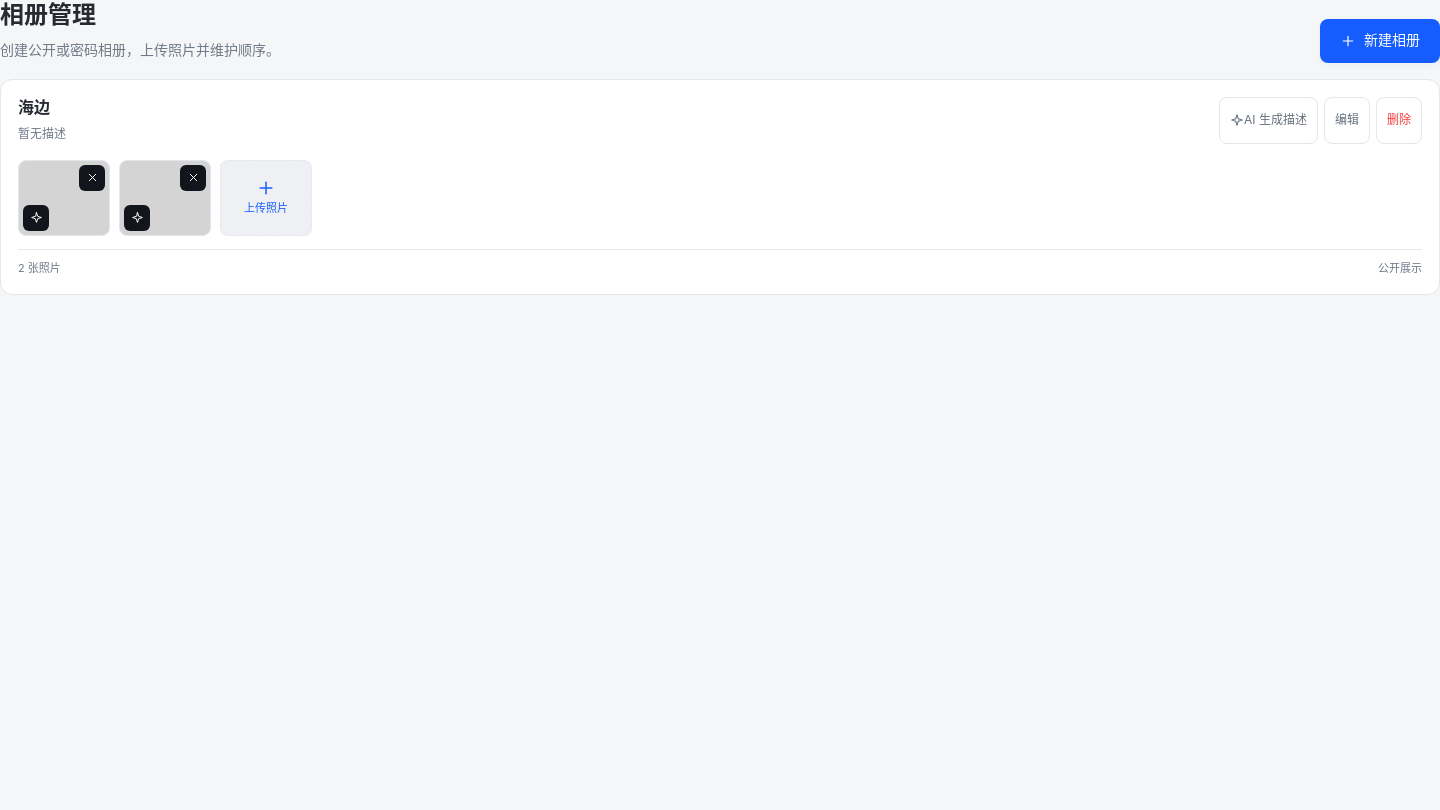
Test: album AI image descriptions › generates a caption for one photo and applies it only when the author confirms
Click the button named "AI 生成描述 7": (36, 218) [23,204,49,230]
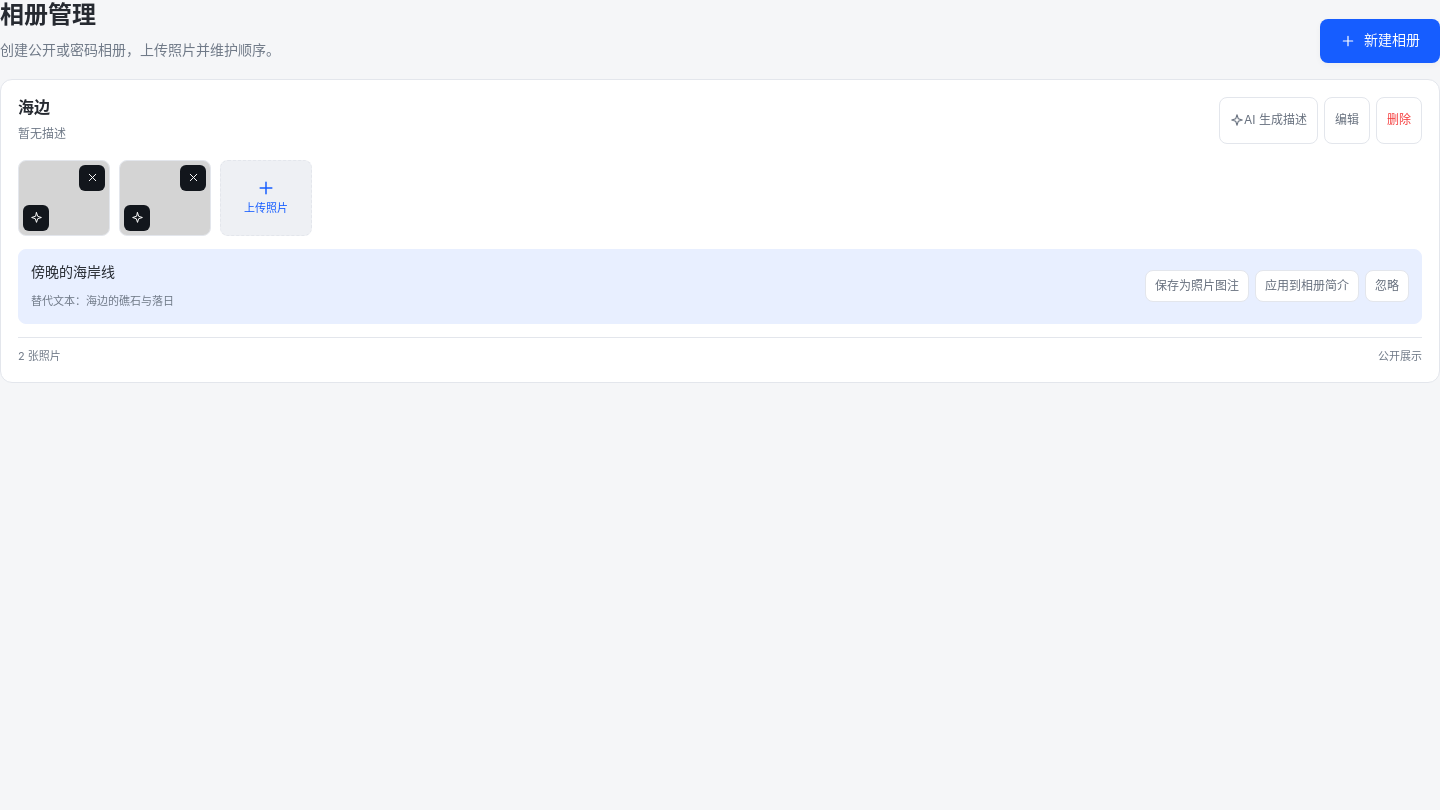
Expected: the text "傍晚的海岸线" is shown, [31,262,115,280]
Expected: the text "替代文本：海边的礁石与落日" is shown, [31,294,174,308]
Click the button "应用到相册简介": (1307, 286) [1255,270,1359,302]
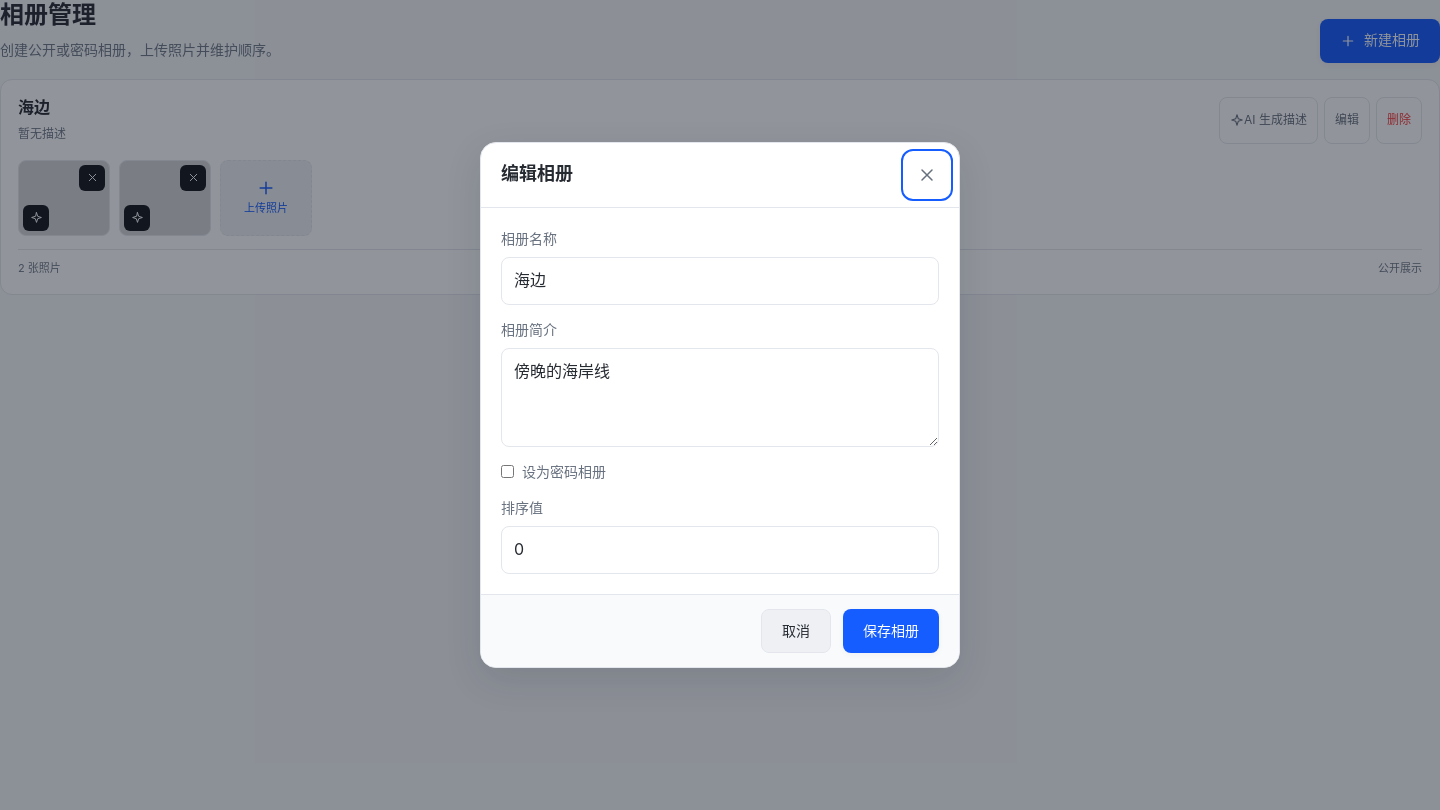
Expected: the form with id "album-form" is shown, [501,228,939,574]
Expected: the text box labelled "相册简介" holds "傍晚的海岸线", [501,348,939,447]
